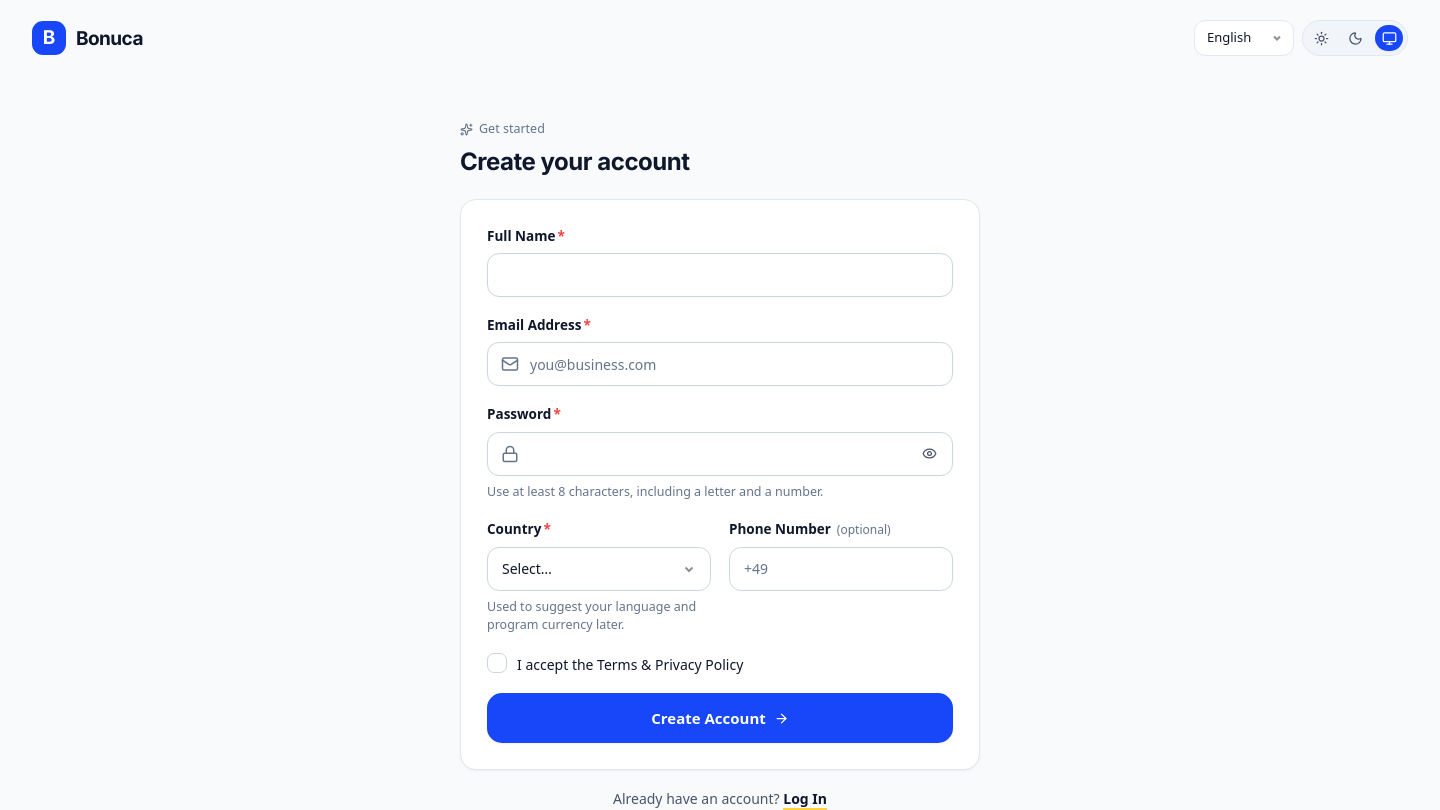
Test: registration (spec §1.2) › validates required fields and terms
This screenshot has width=1440, height=810.
Click the button "Create Account".
click(720, 718)  # box [487, 693, 953, 743]
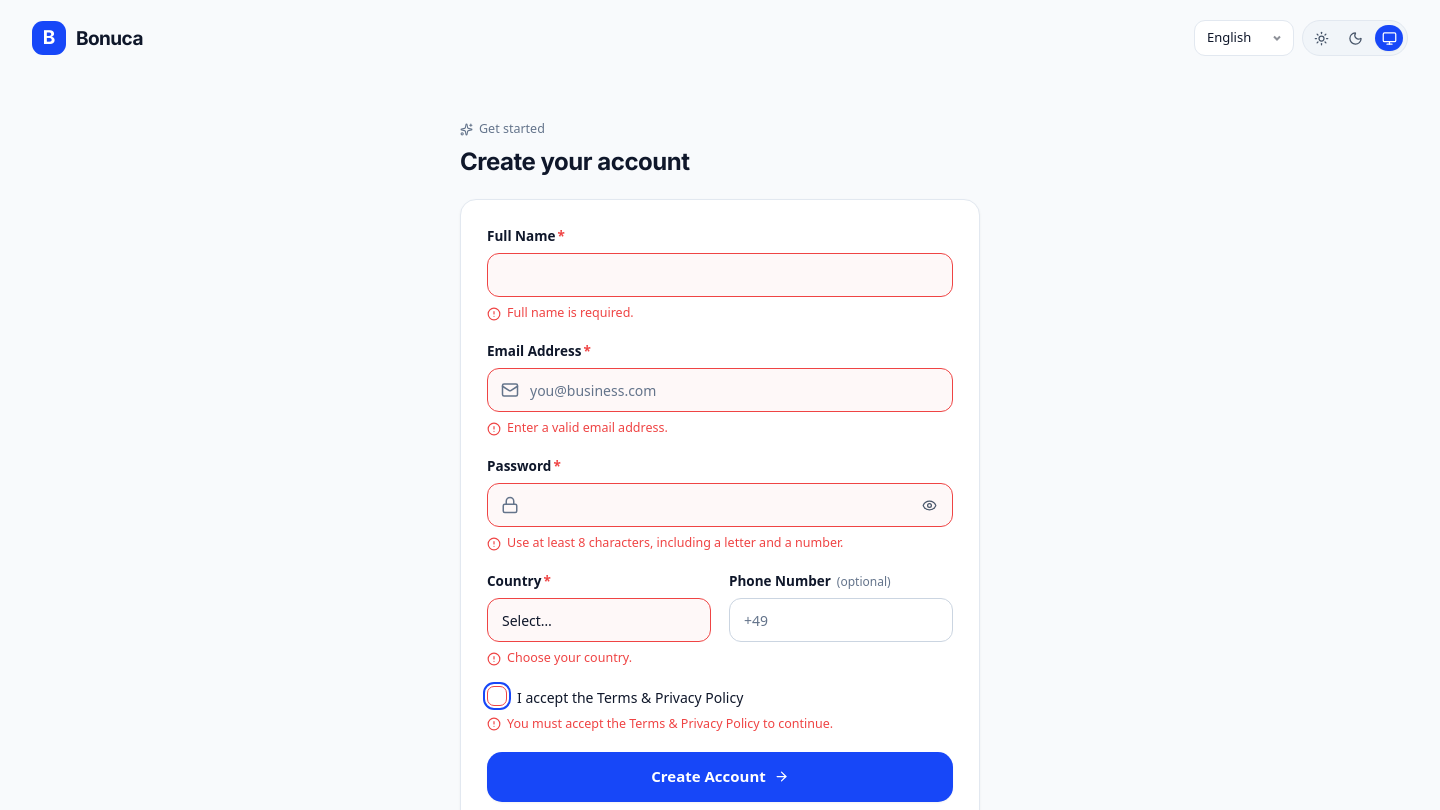
Expected: the text "Full name is required." is shown, [487, 304, 634, 321]
Expected: the text "Enter a valid email address." is shown, [487, 419, 668, 436]
Expected: the text "You must accept the Terms & Privacy Policy to continue." is shown, [487, 715, 833, 732]
